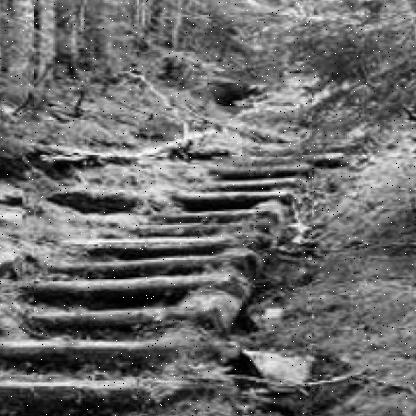stair_up: (4, 192, 191, 416)
